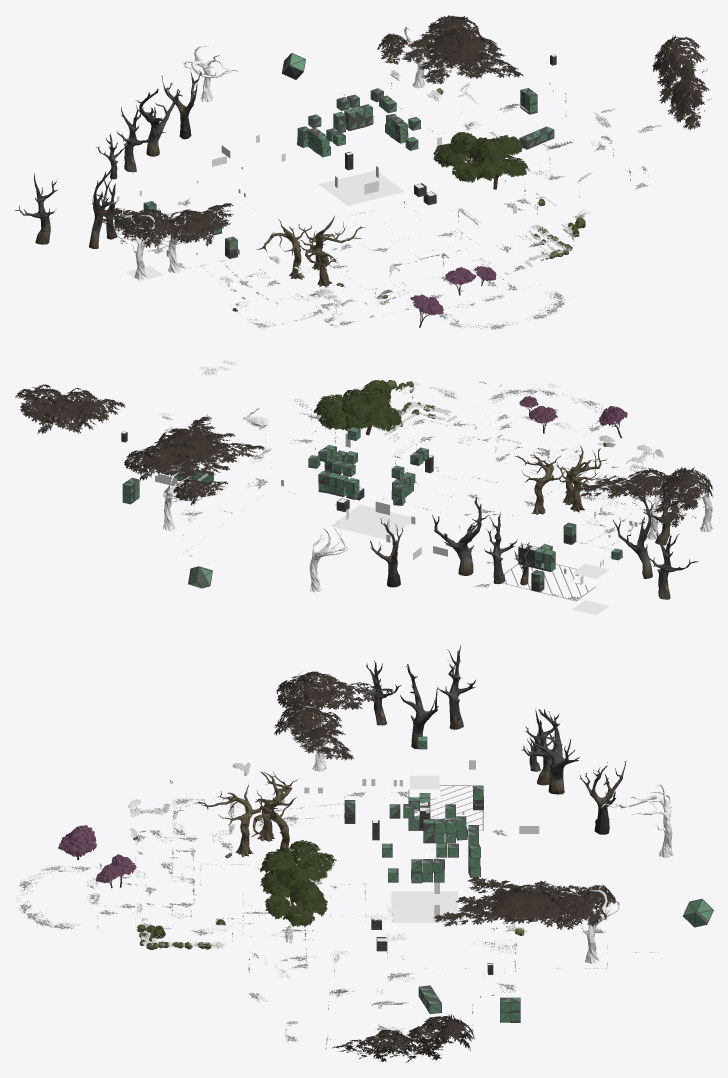
Rendered from Haven_Foliage.mobile.glb.
3 renders of one model, top to bottom at view 1: azimuth 30°, elevation 25°; view 2: azimuth 150°, elevation 25°; view 3: azimuth 270°, elevation 25°, orthographic. The views are drawn at different scales.
Parts seen in each view (by area): view 1: Shard_0_Box.016, Tree_1_ConiferC, Tree_0_BeechCanopyFoliage, Tree_0_BeechCanopyFoliage.016, FTBox_0_C.002, Tree_0_BeechCanopyFoliage.015, Tree_0_BeechCanopyFoliage.006, Tree_2_Trunk, Tree_0_BeechCanopyFoliage.014, Tree_0_AshenA.002, Tree_0_AshenA, Shard_0_Box (+11 smaller); view 2: Tree_0_BeechCanopyFoliage.016, Tree_1_ConiferC, Shard_0_Box.016, Tree_0_BeechCanopyFoliage, Tree_0_BeechCanopyFoliage.006, FTBox_0_C.002, Tree_0_BeechCanopyFoliage.015, Tree_2_Trunk, Tree_0_BeechCanopyFoliage.014, Tree_0_AshenA.002, Tree_0_AshenC, Tree_0_AshenA (+16 smaller); view 3: Tree_1_ConiferC, Tree_0_BeechCanopyFoliage, Shard_0_Box.016, Tree_0_BeechCanopyFoliage.016, Tree_0_BeechCanopyFoliage.015, Tree_0_BeechCanopyFoliage.014, Tree_2_Trunk, FTBox_0_C.002, Tree_0_BeechCanopyFoliage.006, Tree_0_AshenA.002, Tree_0_AshenC, Shard_0_Box (+12 smaller).
Boxes of the visible parts, <box> form: Shard_0_Box.016: <box>297,88,420,157</box>; Tree_1_ConiferC: <box>433,132,528,189</box>; Tree_0_BeechCanopyFoliage: <box>419,27,523,84</box>; Tree_0_BeechCanopyFoliage.016: <box>652,35,711,130</box>; FTBox_0_C.002: <box>319,137,441,205</box>; Tree_0_BeechCanopyFoliage.015: <box>95,207,177,247</box>; Tree_0_BeechCanopyFoliage.006: <box>377,15,479,64</box>; Tree_2_Trunk: <box>256,215,365,287</box>; Tree_0_BeechCanopyFoliage.014: <box>163,203,233,246</box>; Tree_0_AshenA.002: <box>15,173,124,244</box>; Tree_0_AshenA: <box>95,105,165,179</box>; Shard_0_Box: <box>519,88,554,149</box>; Tree_0_BeechCanopyFoliage.016: <box>15,384,125,433</box>; Tree_1_ConiferC: <box>313,379,402,435</box>; Shard_0_Box.016: <box>308,427,428,505</box>; Tree_0_BeechCanopyFoliage: <box>145,416,265,469</box>; Tree_0_BeechCanopyFoliage.006: <box>124,447,229,505</box>; FTBox_0_C.002: <box>330,433,433,539</box>; Tree_0_BeechCanopyFoliage.015: <box>653,467,713,527</box>; Tree_2_Trunk: <box>514,446,620,514</box>; Tree_0_BeechCanopyFoliage.014: <box>572,468,675,505</box>; Tree_0_AshenA.002: <box>643,485,698,599</box>; Tree_0_AshenC: <box>432,497,490,575</box>; Tree_0_AshenA: <box>484,512,535,585</box>; Tree_1_ConiferC: <box>260,840,336,927</box>; Tree_0_BeechCanopyFoliage: <box>433,877,571,930</box>; Shard_0_Box.016: <box>382,804,480,883</box>; Tree_0_BeechCanopyFoliage.016: <box>332,1014,474,1062</box>; Tree_0_BeechCanopyFoliage.015: <box>276,671,393,718</box>; Tree_0_BeechCanopyFoliage.014: <box>274,703,353,760</box>; Tree_2_Trunk: <box>193,771,297,857</box>; FTBox_0_C.002: <box>371,820,458,929</box>; Tree_0_BeechCanopyFoliage.006: <box>534,881,616,929</box>; Tree_0_AshenA.002: <box>356,644,476,729</box>; Tree_0_AshenC: <box>530,709,579,794</box>; Shard_0_Box: <box>418,985,520,1022</box>.
Size of the model in its own units: 167 by 30.9 by 131.
Materials: 21 (19 with a texture image).
